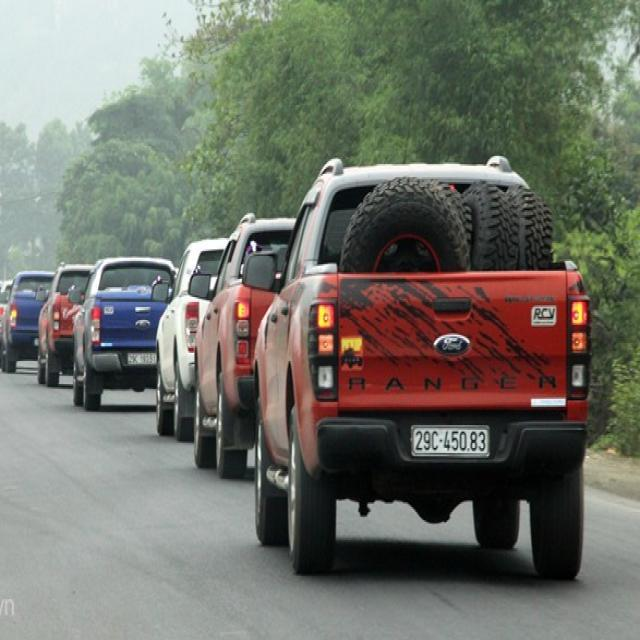car: (247, 146, 602, 588), (64, 253, 179, 414), (9, 260, 94, 382)
plate: (406, 420, 496, 463)
